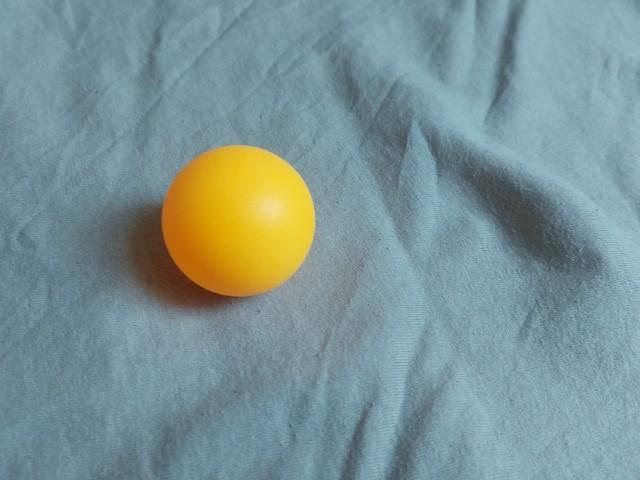oball: (154, 141, 324, 303)
